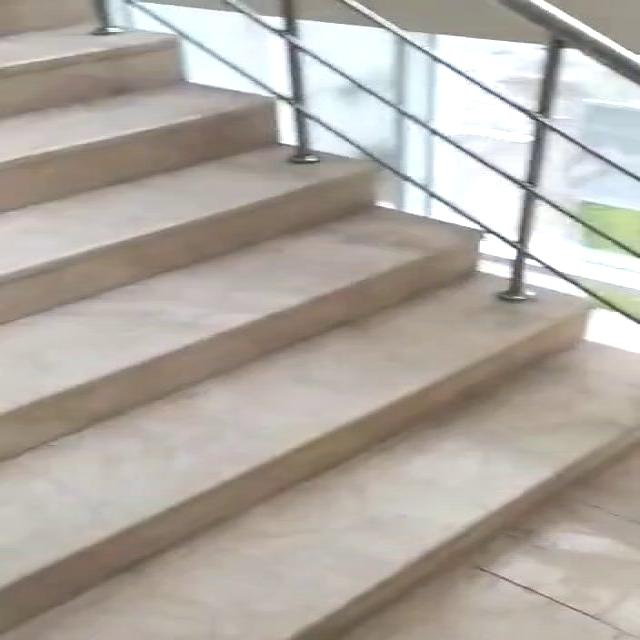stair: (1, 6, 637, 640)
